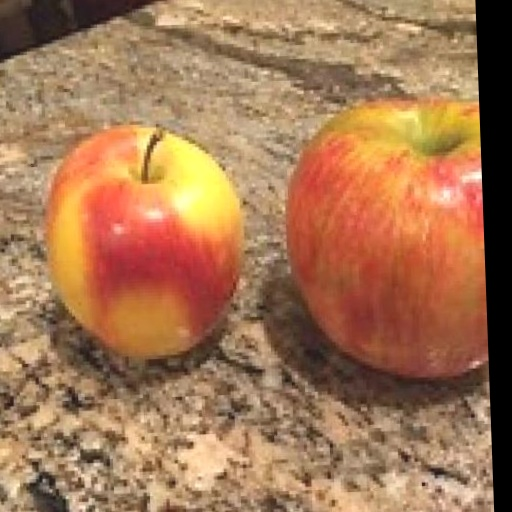fruit: (287, 101, 488, 377), (46, 127, 243, 358)
